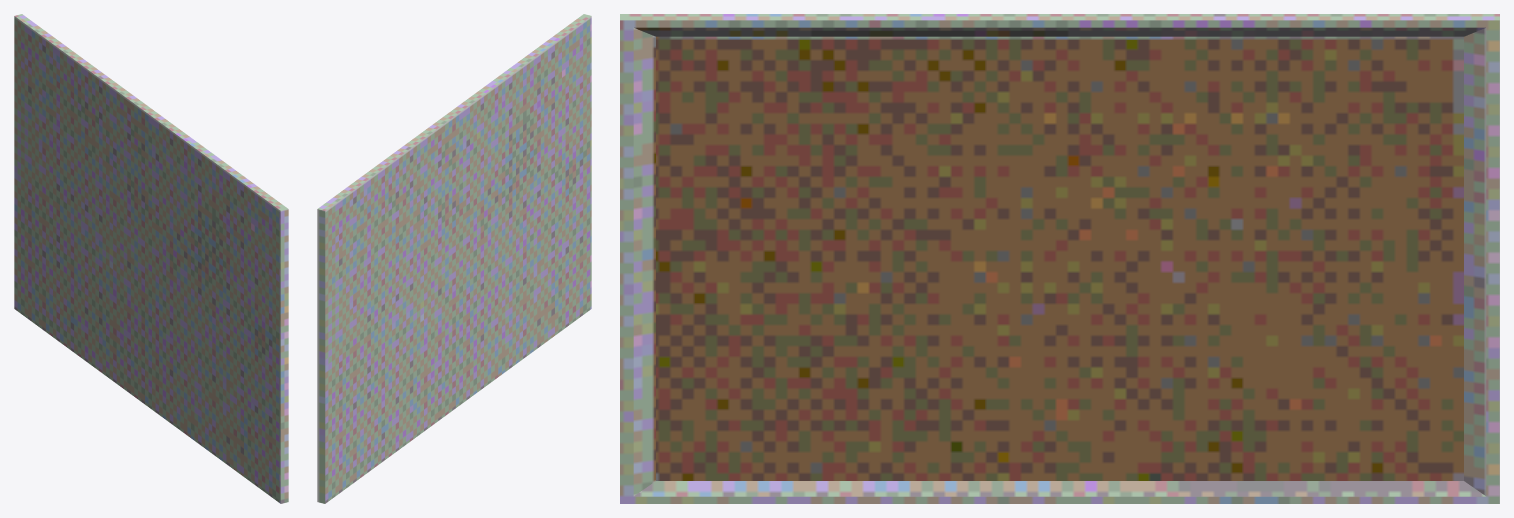
File: Pizarra.fbx
3 renders of one model, left to right at view 1: azimuth 30°, elevation 25°; view 2: azimuth 150°, elevation 25°; view 3: azimuth 270°, elevation 25°, orthographic. The views are drawn at different scales.
Visible parts, largest first — view 1: Pizarra1; view 2: Pizarra1; view 3: Pizarra1.
Boxes of the visible parts, x1,y1,x2,y2 form: Pizarra1: (14,14,288,503); Pizarra1: (317,14,591,503); Pizarra1: (620,14,1499,503).
Size of the model in its own units: 0.0642 by 2.29 by 3.78.
